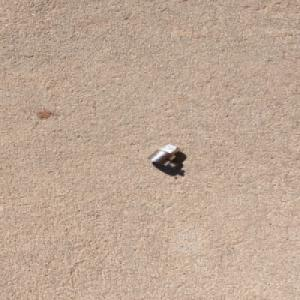MetalPart: (145, 143, 182, 169)
